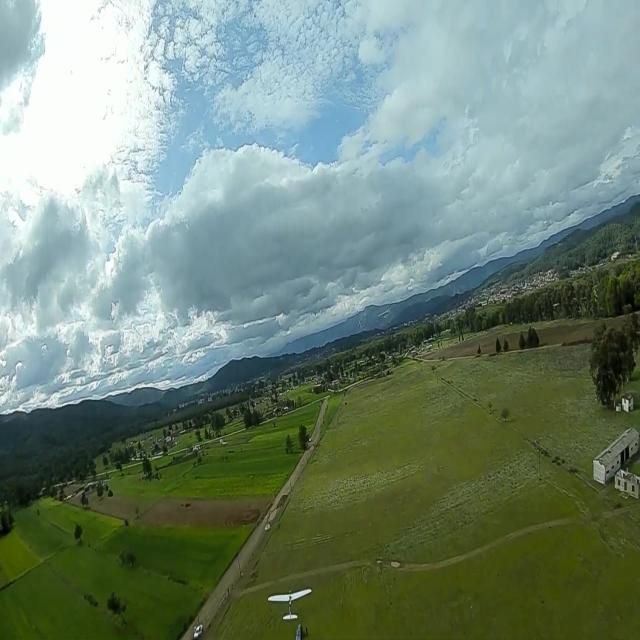iha: (267, 587, 312, 621)
